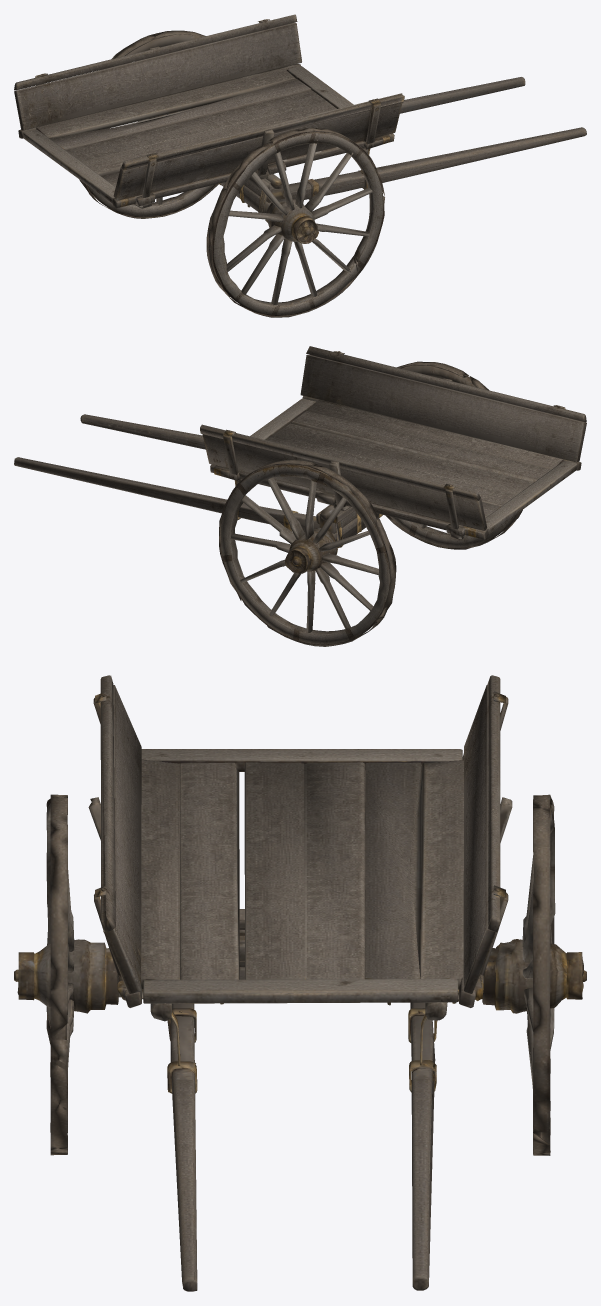
File: des-cart-intact_optimized.glb
3 renders of one model, top to bottom at view 1: azimuth 30°, elevation 25°; view 2: azimuth 150°, elevation 25°; view 3: azimuth 270°, elevation 25°, orthographic. The views are drawn at different scales.
Parts seen in each view (by area): view 1: Mesh_0; view 2: Mesh_0; view 3: Mesh_0.
Part boxes in pixels (box(x1,y1,x2,y2)): Mesh_0: box(14, 14, 586, 317); Mesh_0: box(14, 346, 586, 646); Mesh_0: box(14, 675, 586, 1291).
Size of the model in its own units: 0.9438 by 0.3369 by 0.5327.
1 material, 1 textured.
